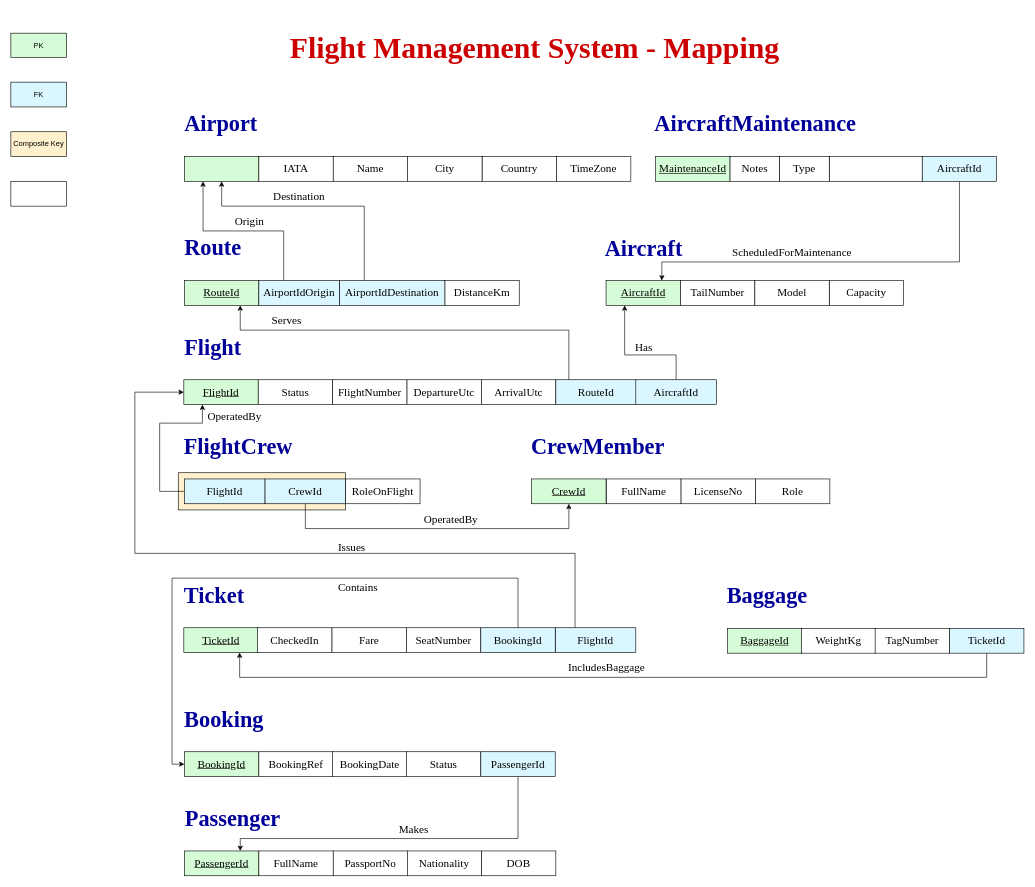
Image size: 1035x887. Some labels were removed from this diagram. Each missing label, with the centre of its shape:
"AirportId" belongs at pixel 221 168.
"MaintenanceDate" belongs at pixel 875 168.
